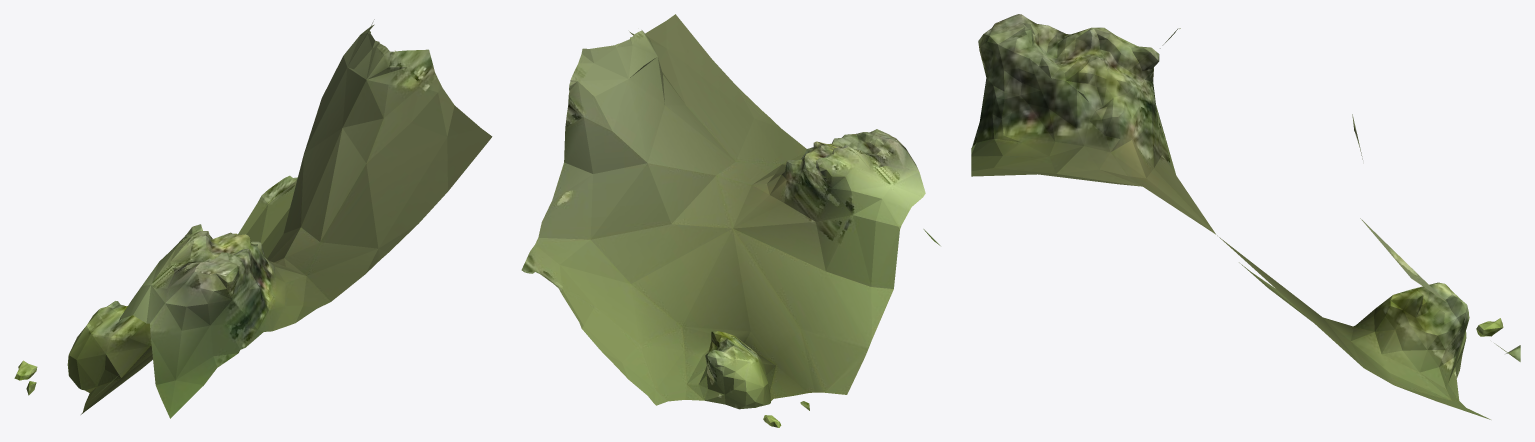
3 renders of one model, left to right at view 1: azimuth 30°, elevation 25°; view 2: azimuth 150°, elevation 25°; view 3: azimuth 270°, elevation 25°, orthographic. The views are drawn at different scales.
Bounding box in the file's own units: 26.11 × 26.11 × 26.11.
4 materials, 4 textured.
